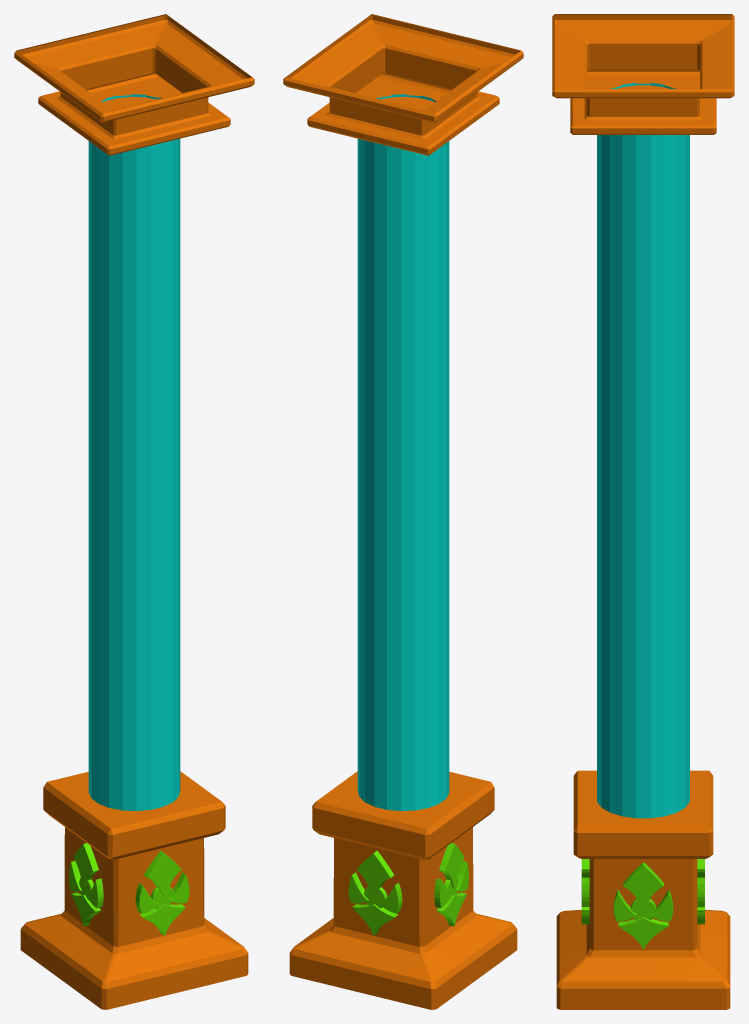
The model's file is ThronePillar.fbx.
3 renders of one model, left to right at view 1: azimuth 30°, elevation 25°; view 2: azimuth 150°, elevation 25°; view 3: azimuth 270°, elevation 25°, orthographic. The views are drawn at different scales.
Visible parts, largest first — view 1: pCylinder1, pCube1, pCube2, _MOD_EmblemOptimised:symbol1, _MOD_EmblemOptimised:symbol, symbol1; view 2: pCylinder1, pCube1, pCube2, symbol1 (×2), symbol; view 3: pCylinder1, pCube1, pCube2, symbol1, symbol, pPlane5.
Part boxes in pixels (x1,y1,x2,y2): pCylinder1: (88,94,180,811); pCube1: (20,771,248,1009); pCube2: (14,14,254,155); _MOD_EmblemOptimised:symbol1: (143,850,181,897); _MOD_EmblemOptimised:symbol: (139,904,185,935); symbol1: (73,843,98,888); pCylinder1: (357,94,449,811); pCube1: (289,771,517,1009); pCube2: (283,14,523,155); symbol1 (×2): (356,843,464,897); symbol: (352,904,398,935); pCylinder1: (597,82,689,818); pCube1: (556,770,730,1009); pCube2: (552,14,734,134); symbol1: (623,862,663,910); symbol: (618,917,668,949); pPlane5: (649,890,673,921).
Bounding box in the file's own units: 1.69 × 9.4 × 1.69.
